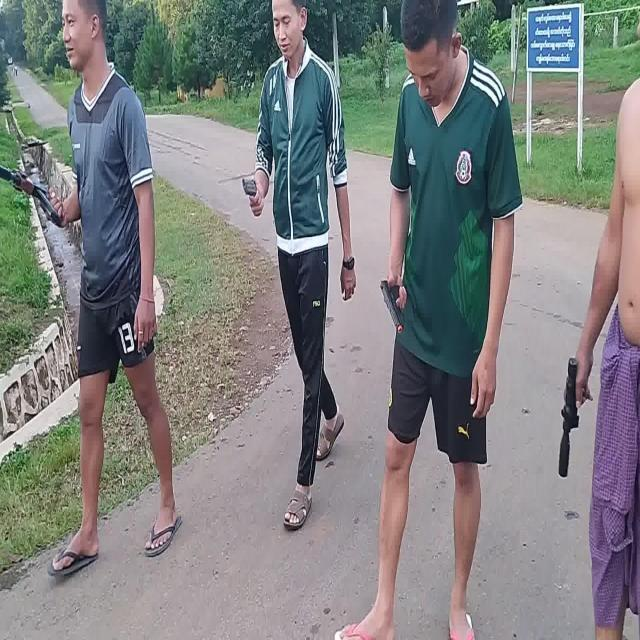gun: (0, 164, 62, 229), (380, 278, 406, 334)
